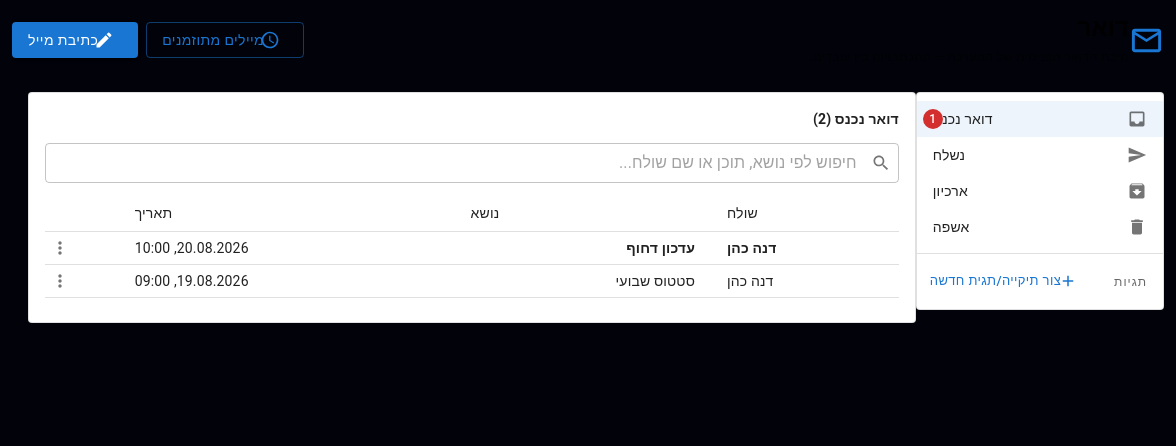
Test case: Emails › clicking a row fetches the thread detail and marks it read
Step 1. Click the row with test id "email-row-10" → (472, 248), box [45,232,899,264]
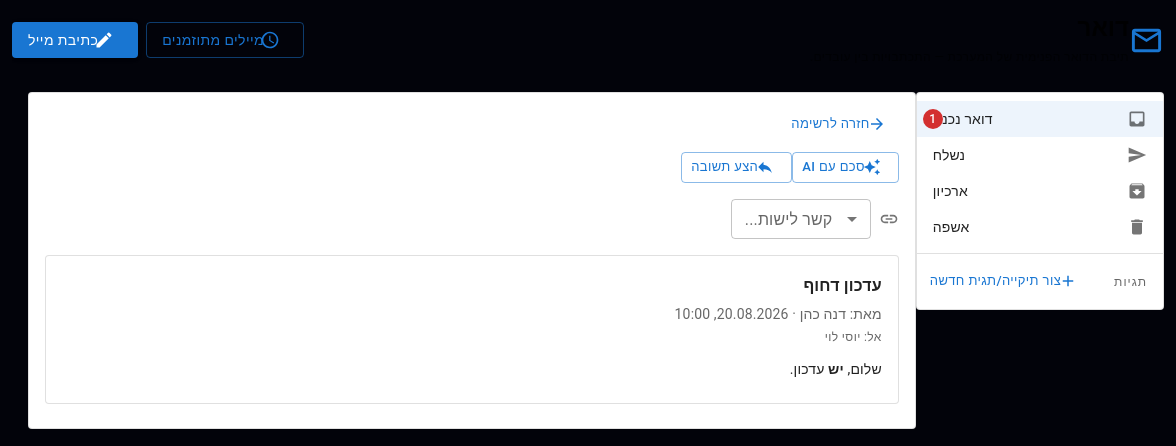
Expected: the text "יש" is shown, [828,361,844,377]
Expected: the text "יש" reads "שלום, יש עדכון.", [790,361,882,377]
